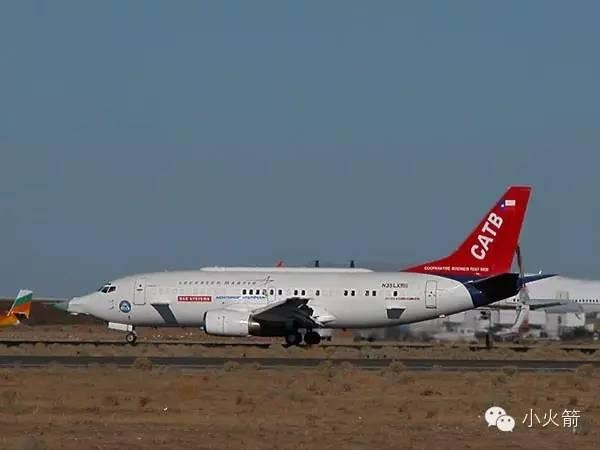airplane: (58, 183, 600, 347)
